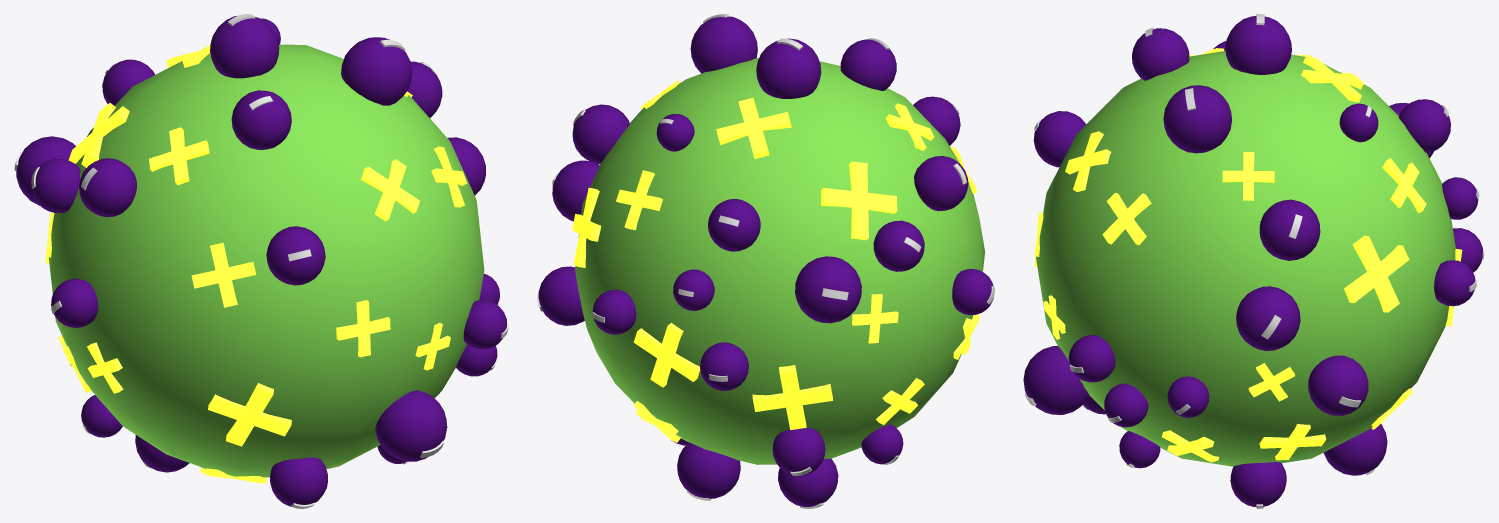
The model's file is atom-thomson.glb.
The picture shows the model from 3 angles, left to right: view 1: azimuth 30°, elevation 25°; view 2: azimuth 150°, elevation 25°; view 3: azimuth 270°, elevation 25°; orthographic projection. The views are drawn at different scales.
Parts seen in each view (by area): view 1: Atom Thomson Positif; view 2: Atom Thomson Positif; view 3: Atom Thomson Positif.
Boxes of the visible parts, x1,y1,x2,y2 form: Atom Thomson Positif: (14, 14, 508, 508); Atom Thomson Positif: (537, 14, 994, 508); Atom Thomson Positif: (1023, 14, 1484, 508).
Bounding box in the file's own units: 2.35 × 2.33 × 2.19.
